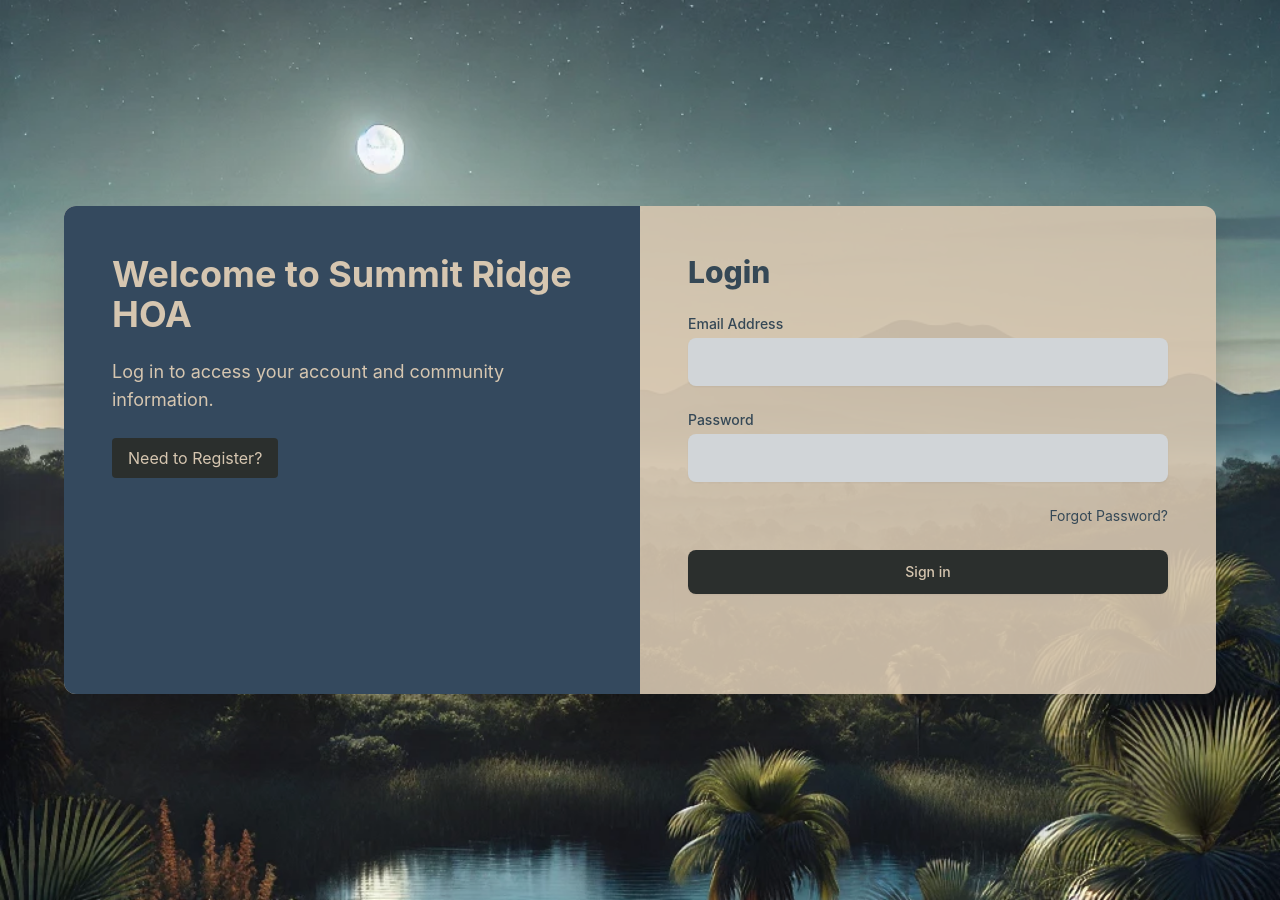
Test case: Login Component Tests › HOA-AUTH-UT-LOG-001: Email Validation - validates email format correctly
In the field named "Email Address": (928, 362) [688,338,1168,386], type "invalid-email"
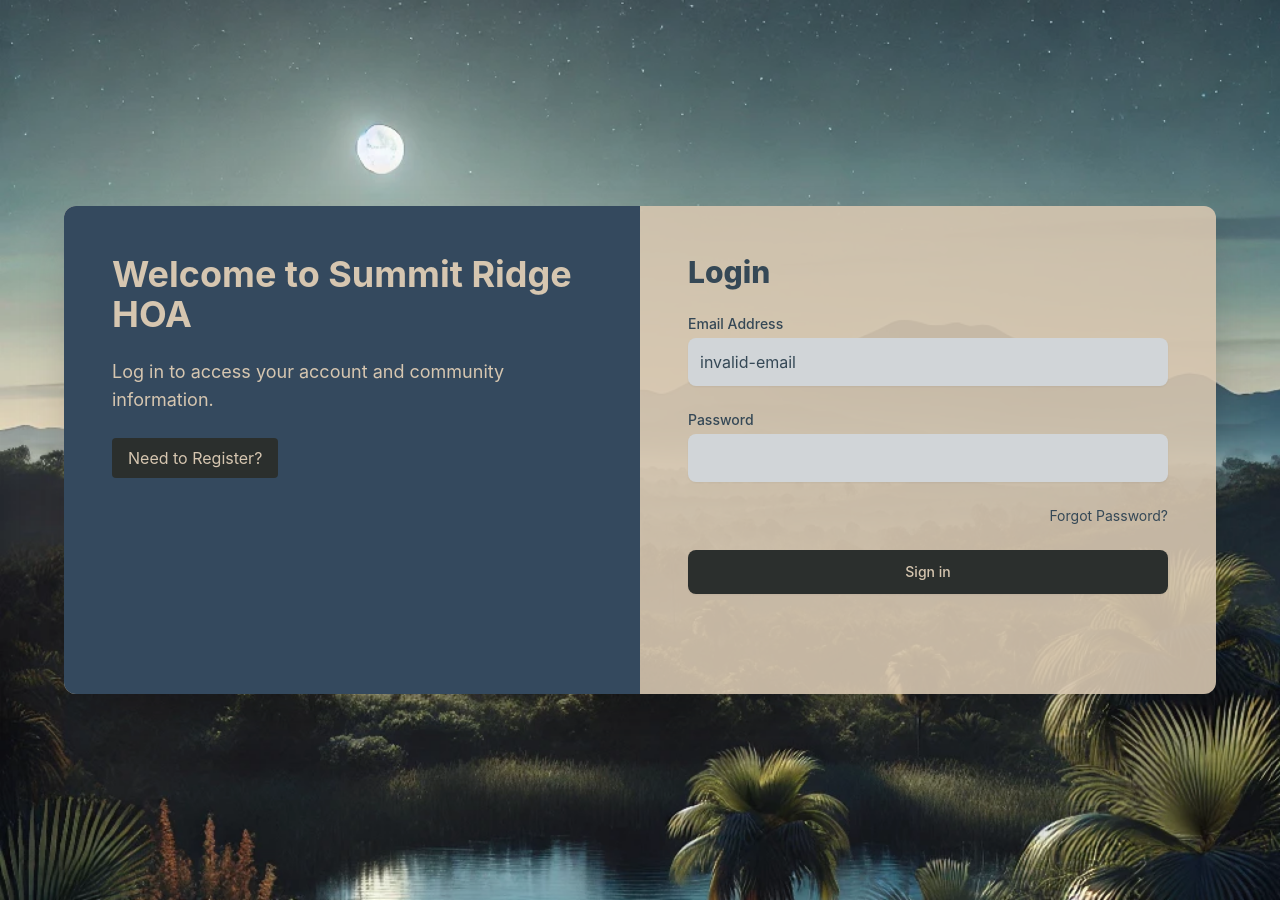
Leave the field named "Email Address", box [688,338,1168,386]
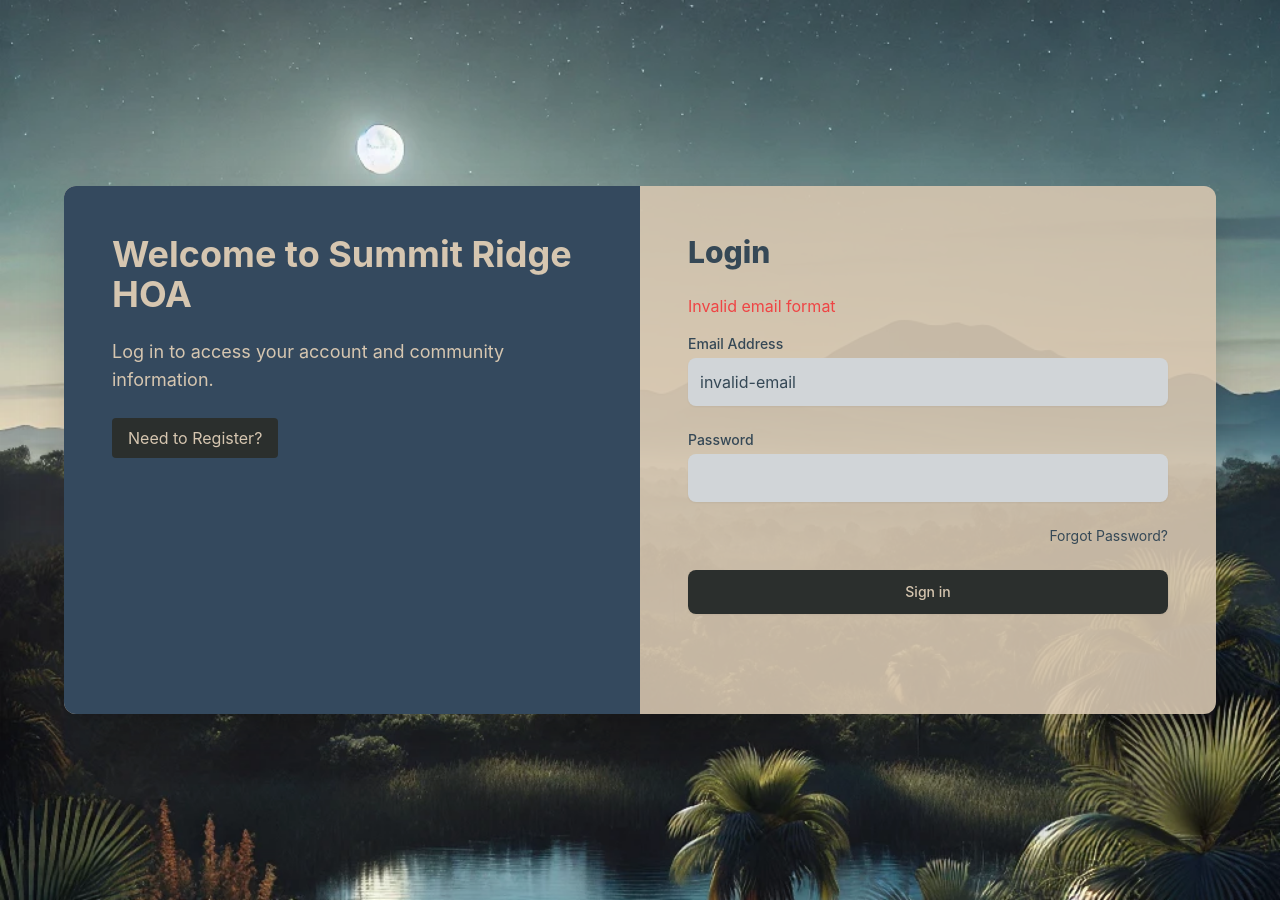
Now the text with test id "desktop-error-message" reads "Invalid email format", box [688,296,836,316]
Replace the text in the field named "Email Address" with "test@example.com": (928, 382) [688,358,1168,406]
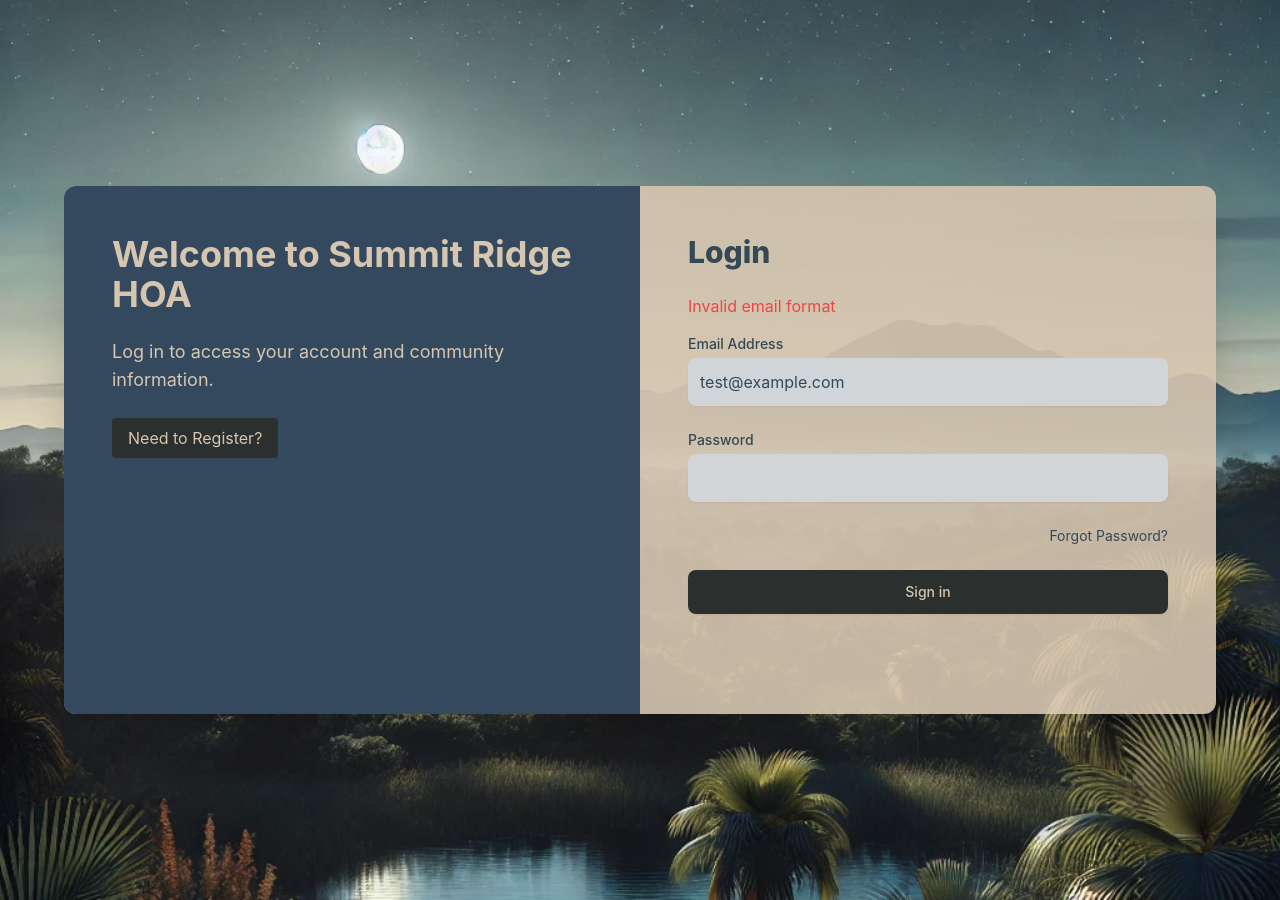
Leave the field named "Email Address", box [688,358,1168,406]
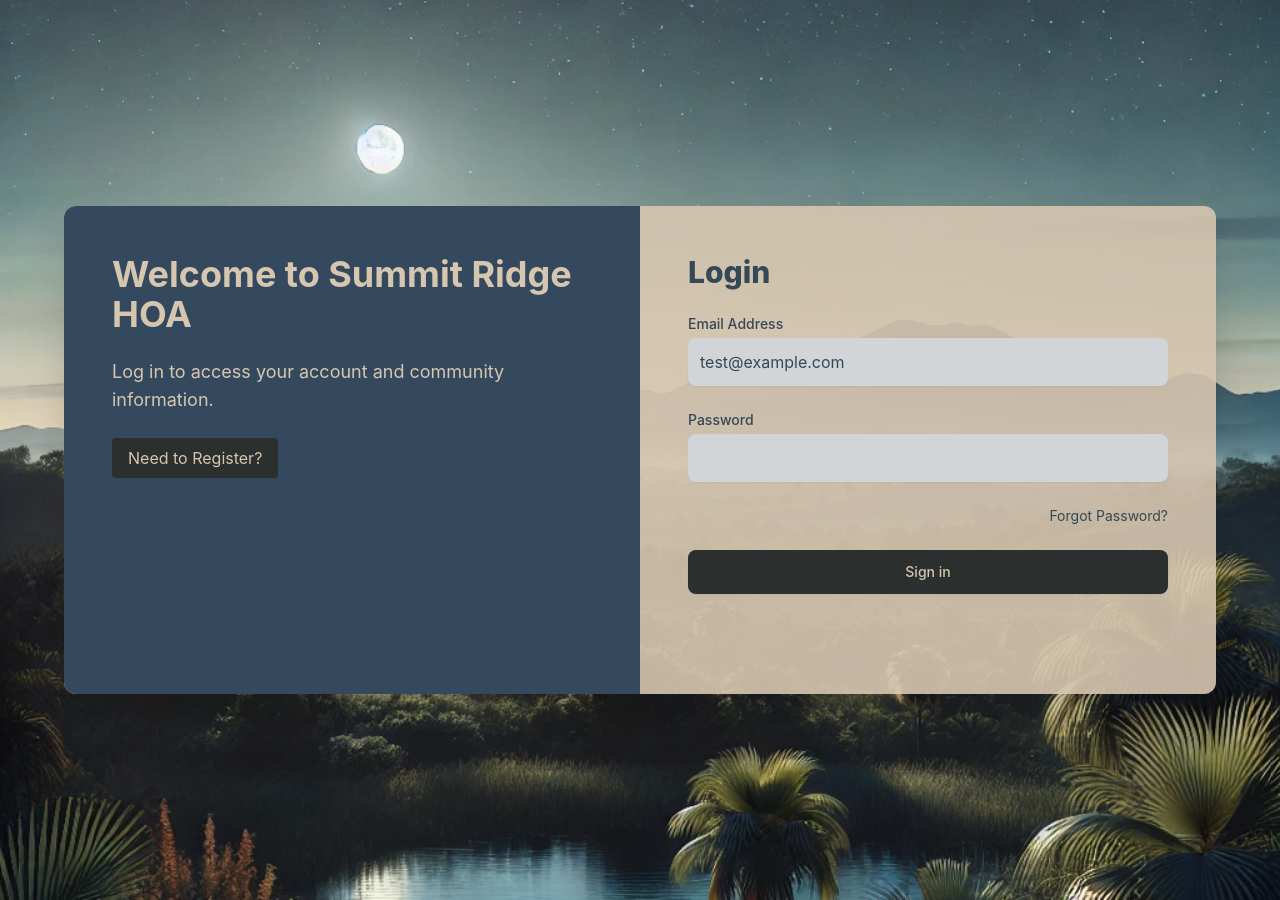
Now the text with test id "desktop-error-message" is gone
